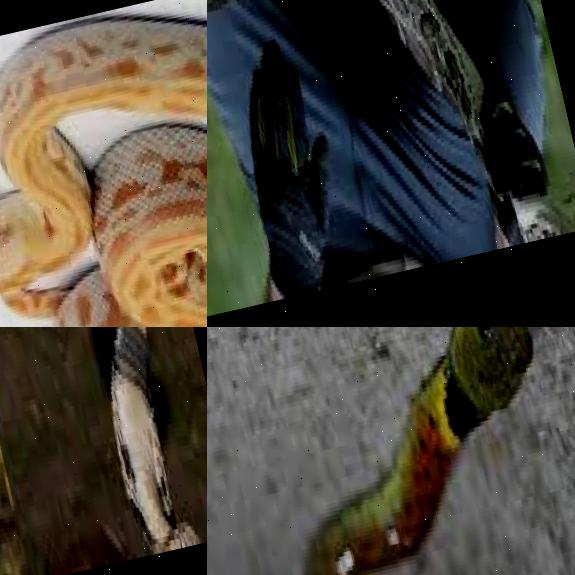2: (207, 327, 575, 575)
snake: (207, 0, 575, 327), (0, 0, 207, 327)
